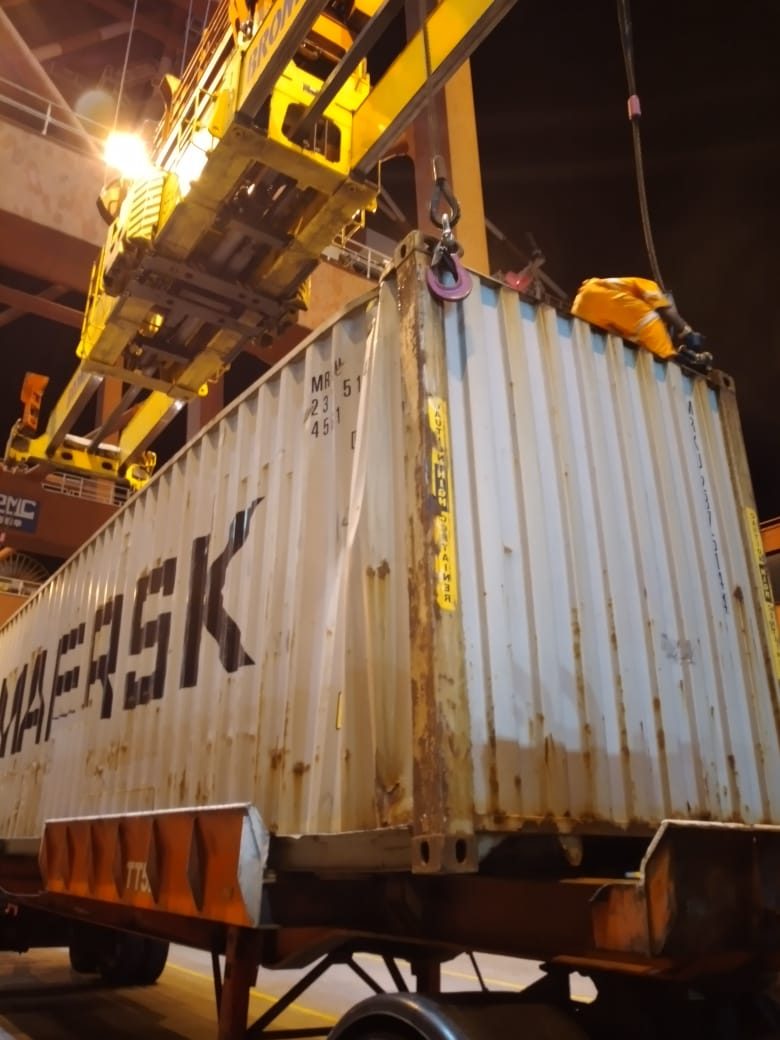bulged: (306, 291, 411, 586)
rust: (255, 742, 348, 804)
